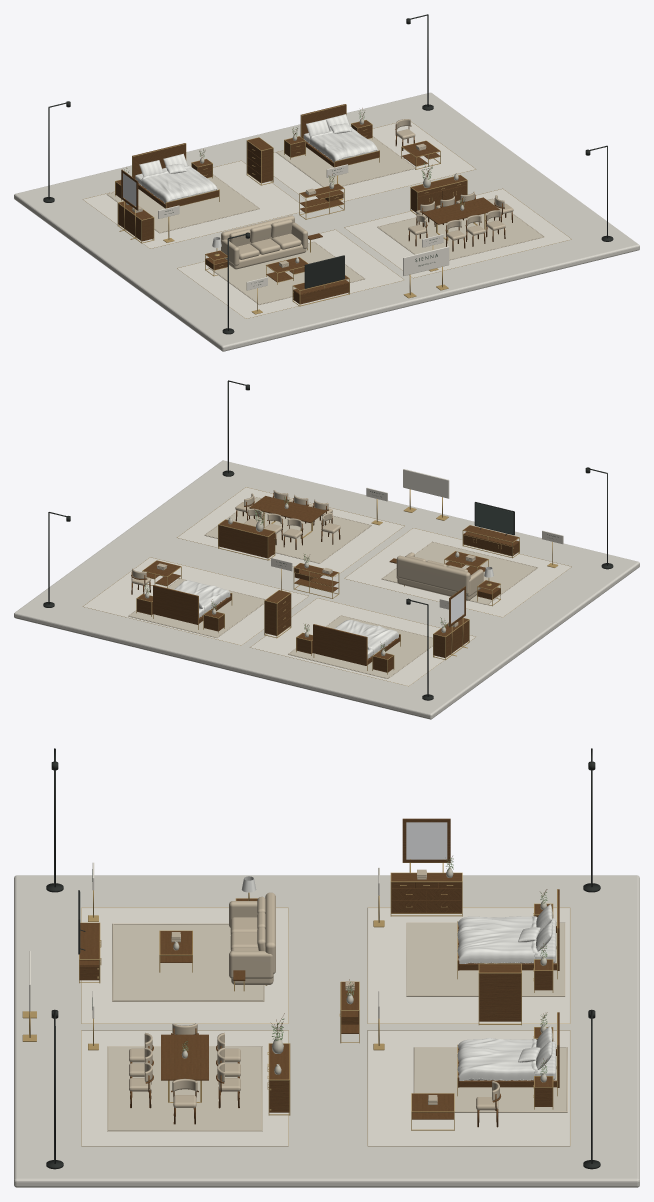
Rendered from sienna-house.glb.
3 renders of one model, top to bottom at view 1: azimuth 30°, elevation 25°; view 2: azimuth 150°, elevation 25°; view 3: azimuth 270°, elevation 25°, orthographic. The views are drawn at different scales.
Parts seen in each view (by area): view 1: Architecture optimized, SIENNA LV463-B02 | LV463-B02-01 optimized, SIENNA LV463-B01 | LV463-B01-01 optimized, SIENNA LV463-D01 | LV463-D01-01 optimized, SIENNA LV463-B61 | LV463-B61-01 optimized, SIENNA LV446-L31 | LV446-L31-01 optimized, SIENNA LV463-L21 | LV463-L21-01 optimized, SIENNA LV463-B51 | LV463-B51-01 optimized, SIENNA LV446-L02 | LV446-L02-01 optimized, SIENNA LV446-L01 | LV446-L01-01 optimized, SIENNA LV463-D21 | LV463-D21-01 optimized, SIENNA LV463-B71 | LV463-B71-01 optimized; view 2: Architecture optimized, SIENNA LV463-B02 | LV463-B02-01 optimized, SIENNA LV463-B01 | LV463-B01-01 optimized, SIENNA LV463-D21 | LV463-D21-01 optimized, SIENNA LV463-D01 | LV463-D01-01 optimized, SIENNA LV463-B61 | LV463-B61-01 optimized, SIENNA LV463-L21 | LV463-L21-01 optimized, SIENNA LV446-L31 | LV446-L31-01 optimized, SIENNA LV463-B51 | LV463-B51-01 optimized, SIENNA LV446-L02 | LV446-L02-01 optimized, SIENNA LV446-L01 | LV446-L01-01 optimized, SIENNA LV463-B71 | LV463-B71-01 optimized; view 3: Architecture optimized, SIENNA LV463-B02 | LV463-B02-01 optimized, SIENNA LV463-B01 | LV463-B01-01 optimized, SIENNA LV463-B51 | LV463-B51-01 optimized, SIENNA LV463-D01 | LV463-D01-01 optimized, SIENNA LV463-B71 | LV463-B71-01 optimized, SIENNA LV463-D21 | LV463-D21-01 optimized, SIENNA LV446-L31 | LV446-L31-01 optimized, SIENNA LV446-L02 | LV446-L02-01 optimized, SIENNA LV463-B61 | LV463-B61-01 optimized, SIENNA LV446-L01 | LV446-L01-01 optimized, SIENNA LV463-L21 | LV463-L21-01 optimized.
Boxes of the visible parts, <box> form: Architecture optimized: <box>14,14,639,351</box>; SIENNA LV463-B02 | LV463-B02-01 optimized: <box>132,143,219,208</box>; SIENNA LV463-B01 | LV463-B01-01 optimized: <box>300,104,379,167</box>; SIENNA LV463-D01 | LV463-D01-01 optimized: <box>422,197,499,240</box>; SIENNA LV463-B61 | LV463-B61-01 optimized: <box>117,201,154,243</box>; SIENNA LV446-L31 | LV446-L31-01 optimized: <box>292,275,349,306</box>; SIENNA LV463-L21 | LV463-L21-01 optimized: <box>299,183,344,219</box>; SIENNA LV463-B51 | LV463-B51-01 optimized: <box>246,137,273,185</box>; SIENNA LV446-L02 | LV446-L02-01 optimized: <box>401,140,440,169</box>; SIENNA LV446-L01 | LV446-L01-01 optimized: <box>266,257,308,284</box>; SIENNA LV463-D21 | LV463-D21-01 optimized: <box>410,175,467,214</box>; SIENNA LV463-B71 | LV463-B71-01 optimized: <box>121,169,138,210</box>; Architecture optimized: <box>14,380,639,719</box>; SIENNA LV463-B02 | LV463-B02-01 optimized: <box>313,619,400,670</box>; SIENNA LV463-B01 | LV463-B01-01 optimized: <box>153,580,232,629</box>; SIENNA LV463-D21 | LV463-D21-01 optimized: <box>218,519,275,560</box>; SIENNA LV463-D01 | LV463-D01-01 optimized: <box>249,496,326,538</box>; SIENNA LV463-B61 | LV463-B61-01 optimized: <box>433,618,469,660</box>; SIENNA LV463-L21 | LV463-L21-01 optimized: <box>293,563,339,598</box>; SIENNA LV446-L31 | LV446-L31-01 optimized: <box>462,525,519,558</box>; SIENNA LV463-B51 | LV463-B51-01 optimized: <box>264,590,291,638</box>; SIENNA LV446-L02 | LV446-L02-01 optimized: <box>142,560,181,587</box>; SIENNA LV446-L01 | LV446-L01-01 optimized: <box>444,551,488,574</box>; SIENNA LV463-B71 | LV463-B71-01 optimized: <box>449,586,465,627</box>; Architecture optimized: <box>14,748,639,1187</box>; SIENNA LV463-B02 | LV463-B02-01 optimized: <box>457,889,559,979</box>; SIENNA LV463-B01 | LV463-B01-01 optimized: <box>457,1012,559,1096</box>; SIENNA LV463-B51 | LV463-B51-01 optimized: <box>478,963,521,1025</box>; SIENNA LV463-D01 | LV463-D01-01 optimized: <box>161,1034,208,1102</box>; SIENNA LV463-B71 | LV463-B71-01 optimized: <box>402,818,450,862</box>; SIENNA LV463-D21 | LV463-D21-01 optimized: <box>268,1043,290,1115</box>; SIENNA LV446-L31 | LV446-L31-01 optimized: <box>79,922,100,983</box>; SIENNA LV446-L02 | LV446-L02-01 optimized: <box>411,1093,454,1130</box>; SIENNA LV463-B61 | LV463-B61-01 optimized: <box>390,872,462,916</box>; SIENNA LV446-L01 | LV446-L01-01 optimized: <box>159,930,192,972</box>; SIENNA LV463-L21 | LV463-L21-01 optimized: <box>340,981,359,1043</box>.
Bounding box in the file's own units: 15 × 3.42 × 13.
Materials: 18 (4 with a texture image).
